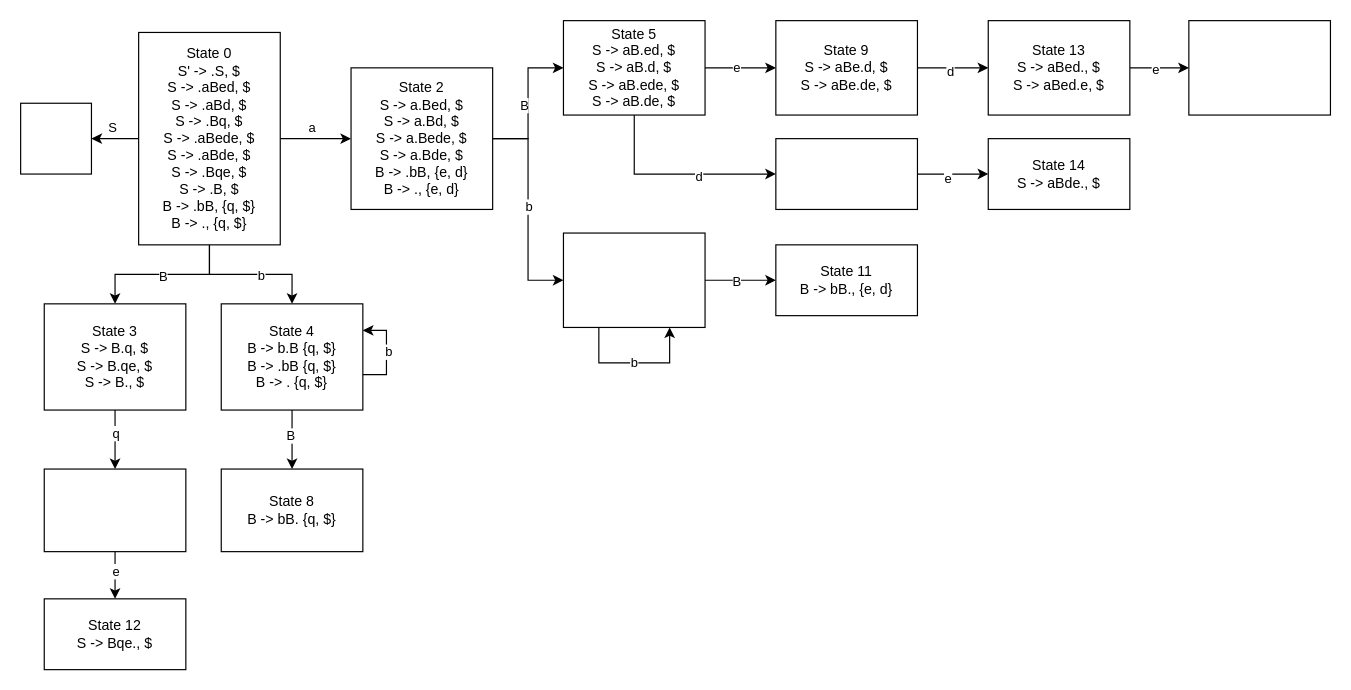
Image size: 1351x690. Some labels were removed from this diagram. Here are the shapes that lost their labels. From the top down, the centre of each, then its label:
[1259,67]: State 15 S -> aBede., $
[55,138]: State 1 S' -> S., $
[846,173]: State 10 S -> aBd., $ S -> aBd.e, $
[633,279]: State 6 B -> b.B, {e, d} B -> .bB, {e, d} B -> ., {e, d}
[114,510]: State 7 S -> Bq., $ S -> Bq.e, $
